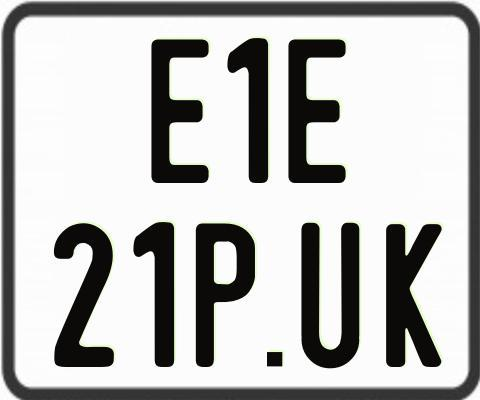1: (227, 36, 272, 181), (132, 220, 175, 368)
2: (51, 221, 111, 371)
E: (149, 39, 212, 186), (285, 37, 346, 187)
K: (386, 222, 444, 367)
P: (193, 221, 255, 366)
U: (301, 221, 359, 370)
